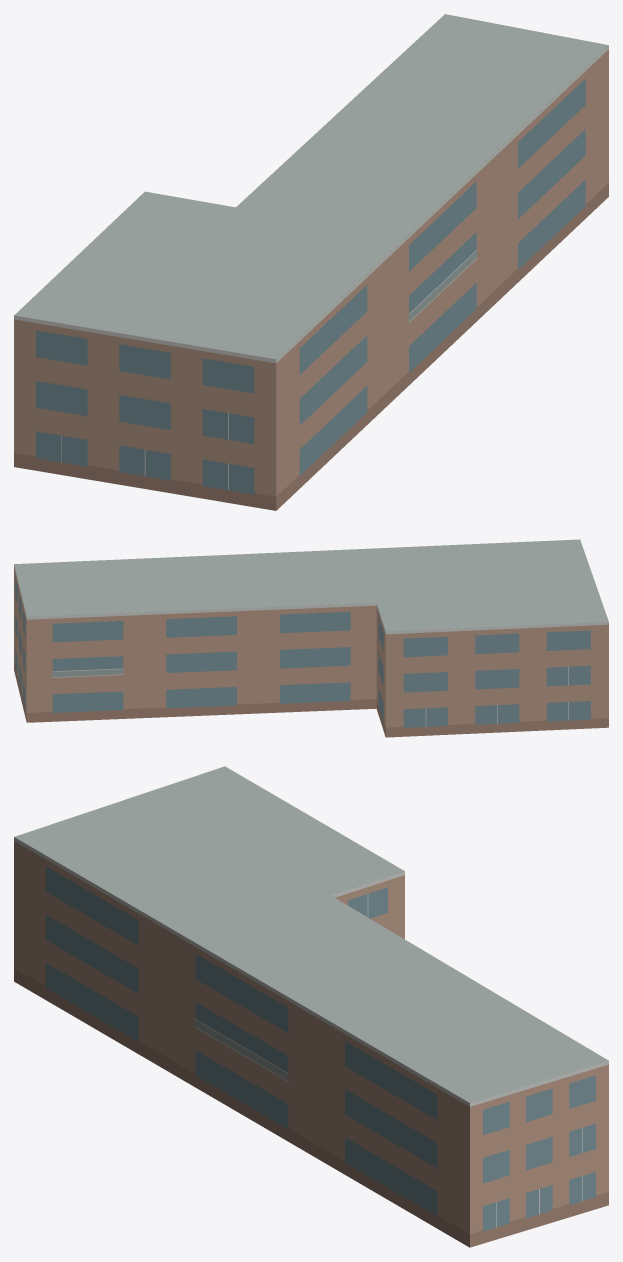
The model's file is survey-upis-32470527.glb.
3 views of the same model, one above another, from view 1: azimuth 30°, elevation 25°; view 2: azimuth 150°, elevation 25°; view 3: azimuth 270°, elevation 25° (orthographic). The views are drawn at different scales.
Parts seen in each view (by area): view 1: survey-upis-32470527.tmp; view 2: survey-upis-32470527.tmp; view 3: survey-upis-32470527.tmp.
Part boxes in pixels (x1,y1,x2,y2): survey-upis-32470527.tmp: [14, 14, 608, 510]; survey-upis-32470527.tmp: [14, 539, 608, 737]; survey-upis-32470527.tmp: [14, 766, 608, 1247].
Size of the model in its own units: 45.7 by 9.15 by 34.11.
